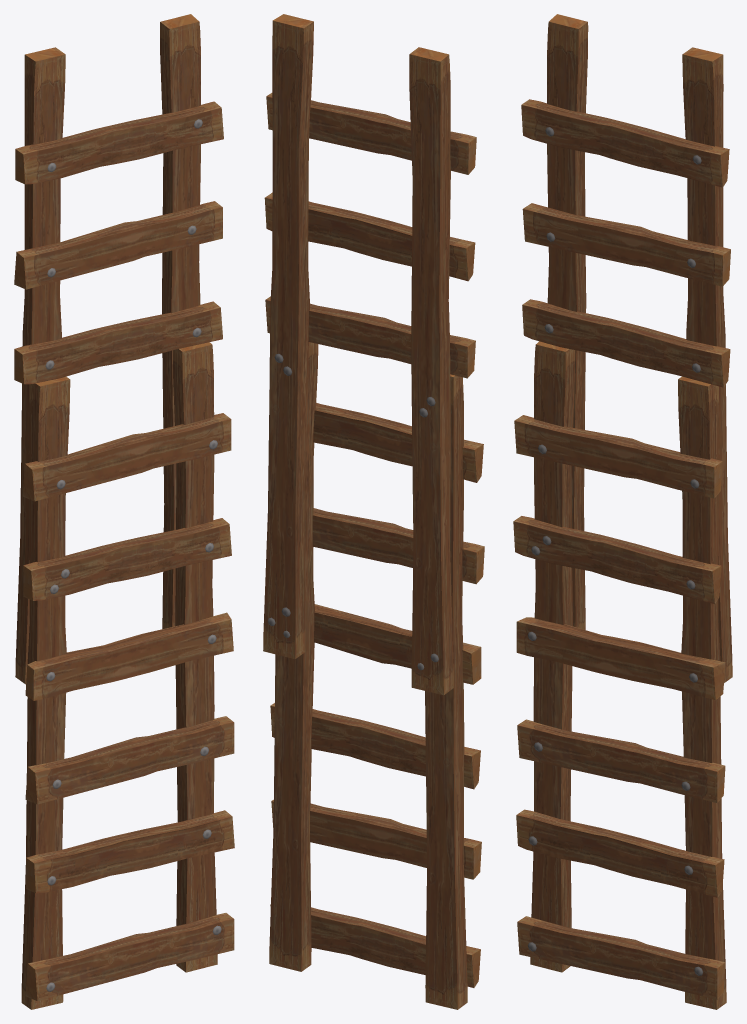
Rendered from SM_Farm_Ladder_01.fbx.
3 views of the same model, side by side, from view 1: azimuth 30°, elevation 25°; view 2: azimuth 150°, elevation 25°; view 3: azimuth 330°, elevation 25° (orthographic).
Visible parts, largest first — view 1: SM_Farm_Ladder_01_LOD0; view 2: SM_Farm_Ladder_01_LOD0; view 3: SM_Farm_Ladder_01_LOD0.
Boxes of the visible parts, box(x1,y1,x2,y2) form: SM_Farm_Ladder_01_LOD0: box(14, 14, 234, 1009); SM_Farm_Ladder_01_LOD0: box(263, 14, 484, 1009); SM_Farm_Ladder_01_LOD0: box(513, 14, 732, 1009).
Size of the model in its own units: 90.46 by 398 by 22.64.
